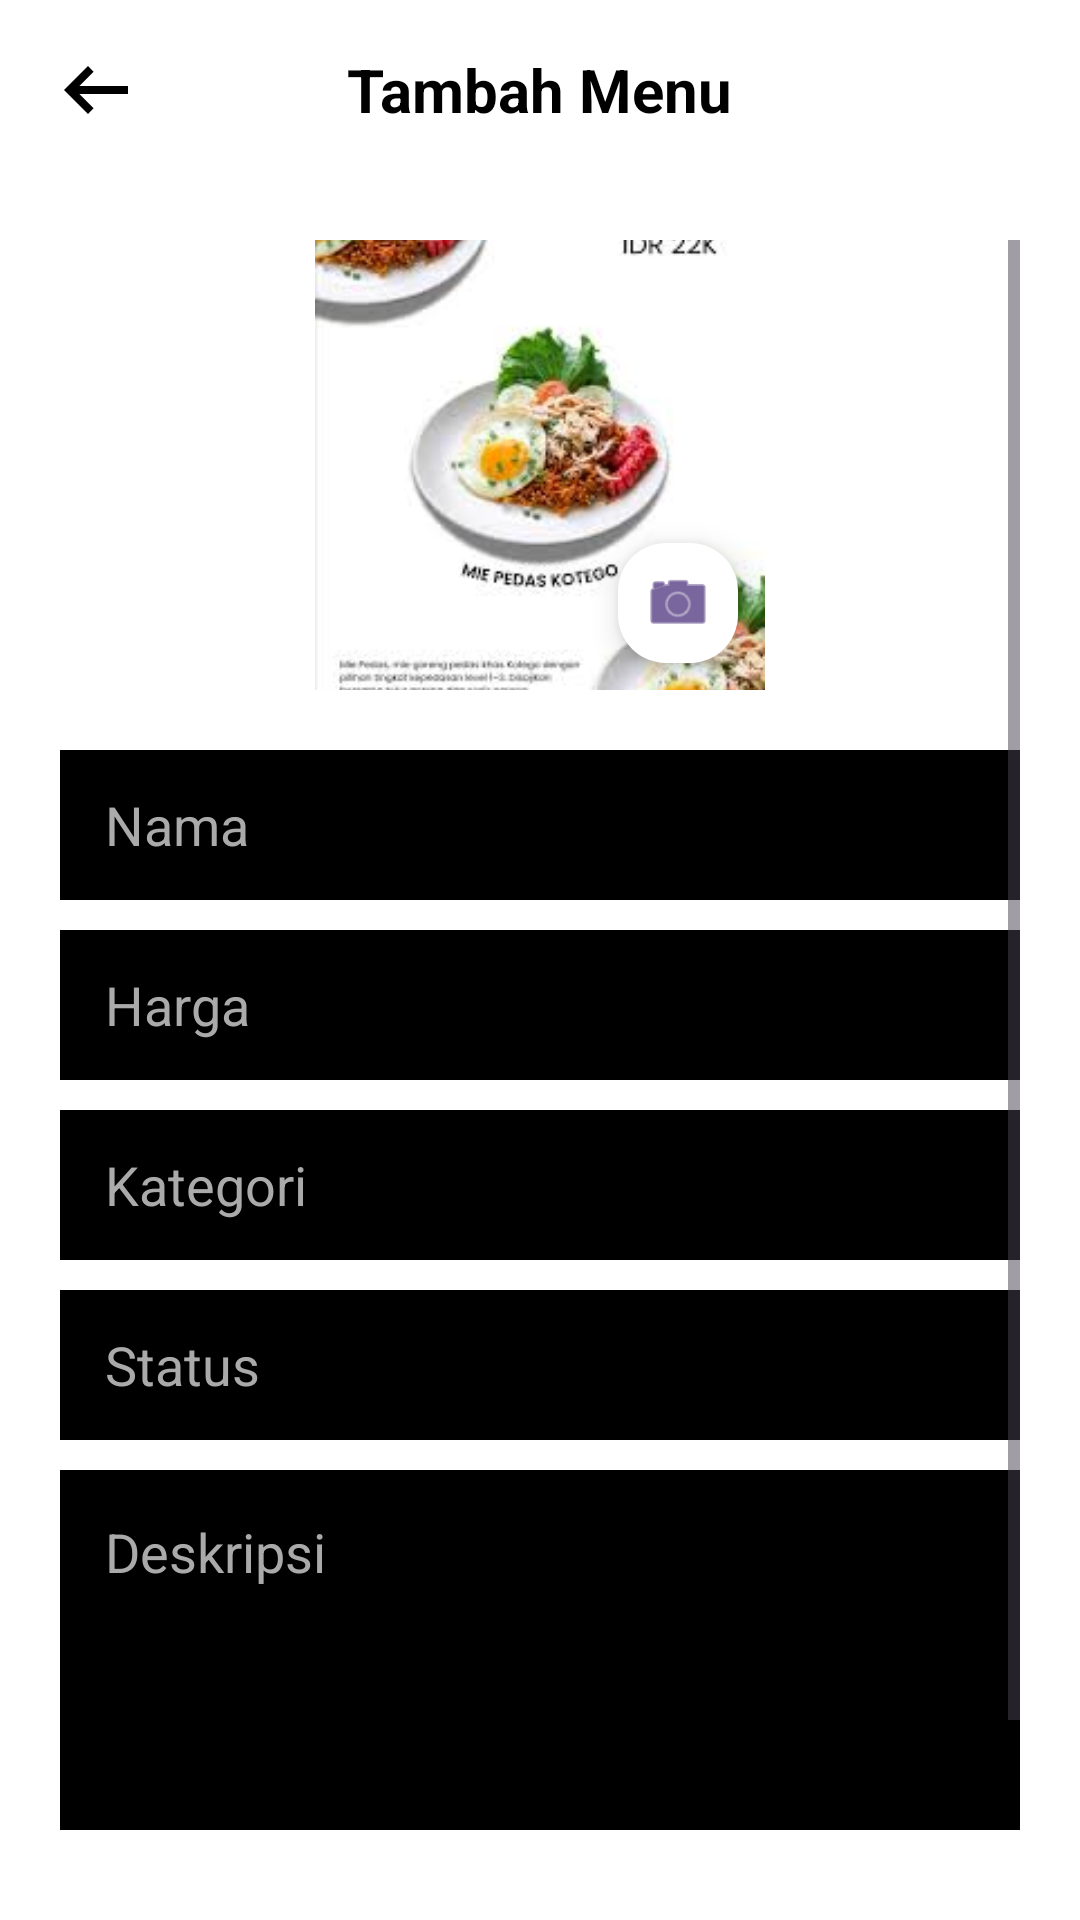

Where to tap for icons on this 1080px×1920px app screen, as point (x, y):
back: point (96, 90)
